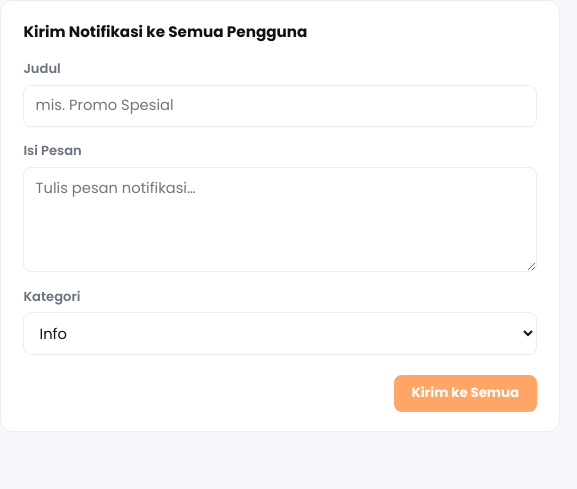
Test: NotificationsPage › broadcasts a notification and shows the recipient count
Type "Promo" into the field with placeholder "mis. Promo Spesial" at coordinates (280, 106), box [23,85,537,127]
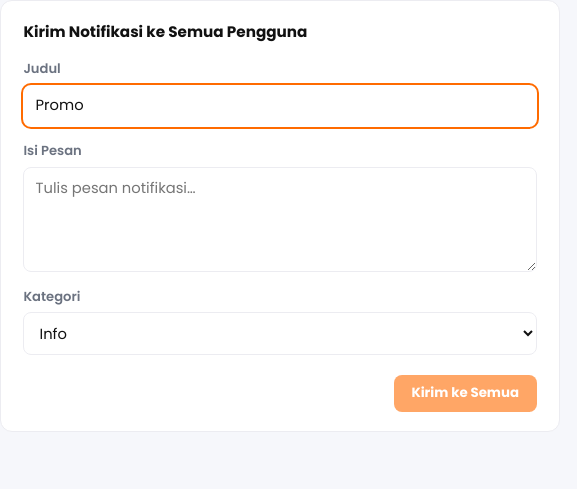
Type "Diskon 50%" into the text box with placeholder "Tulis pesan notifikasi…" at coordinates (280, 220), box [23,167,537,272]
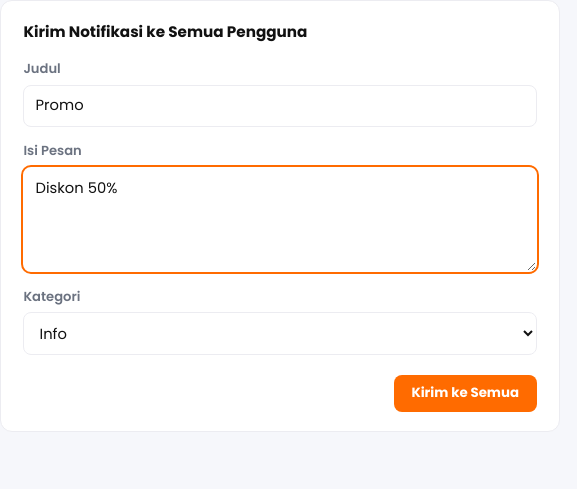
Select "Promo" in the dropdown showing "Info" at coordinates (280, 334), box [23,312,537,355]
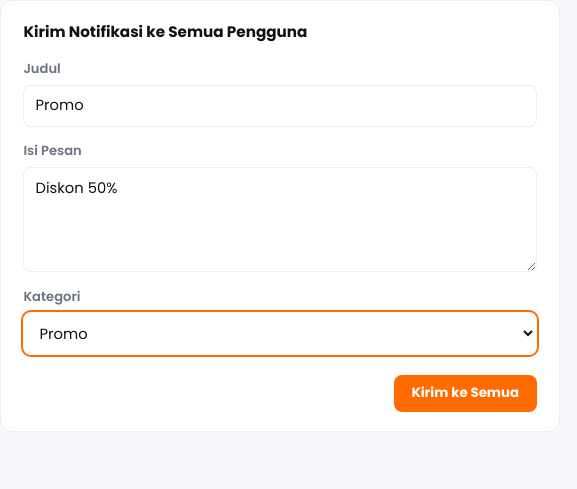
Click the button "Kirim ke Semua" at coordinates (465, 393), box [394,374,537,412]
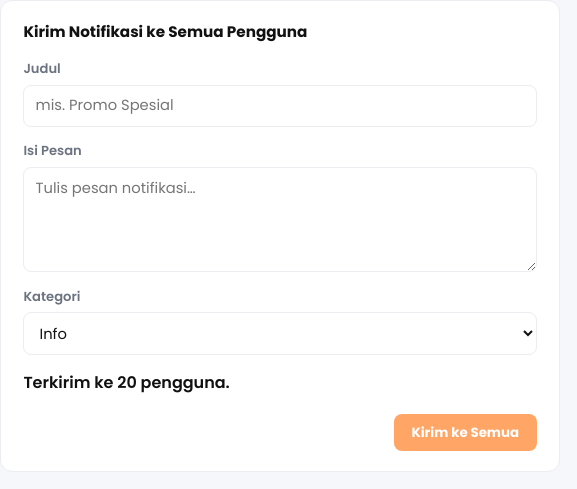
Now the text "Terkirim ke 20 pengguna." is shown, box [23,371,230,394]
